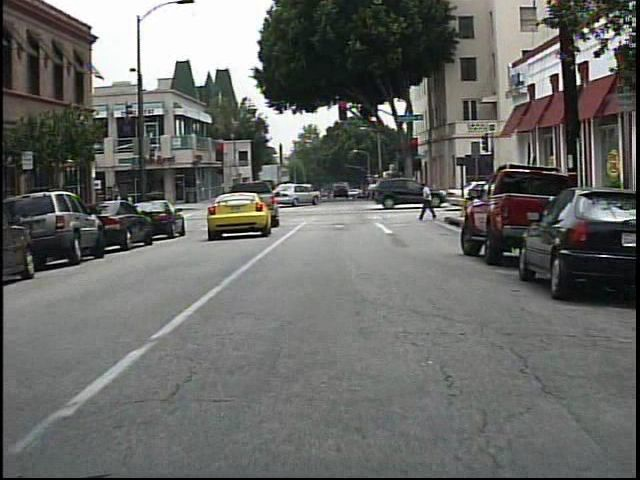person: (417, 180, 440, 224)
